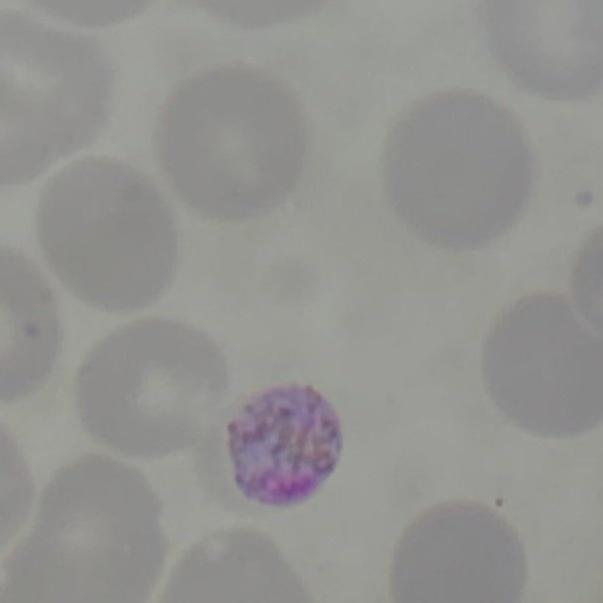Infected: (212, 382, 343, 512)
Uninfected: (158, 67, 311, 225), (6, 456, 167, 603), (388, 92, 532, 248), (37, 154, 175, 311), (77, 322, 229, 461), (0, 6, 113, 181), (482, 289, 603, 436), (392, 504, 525, 603)
